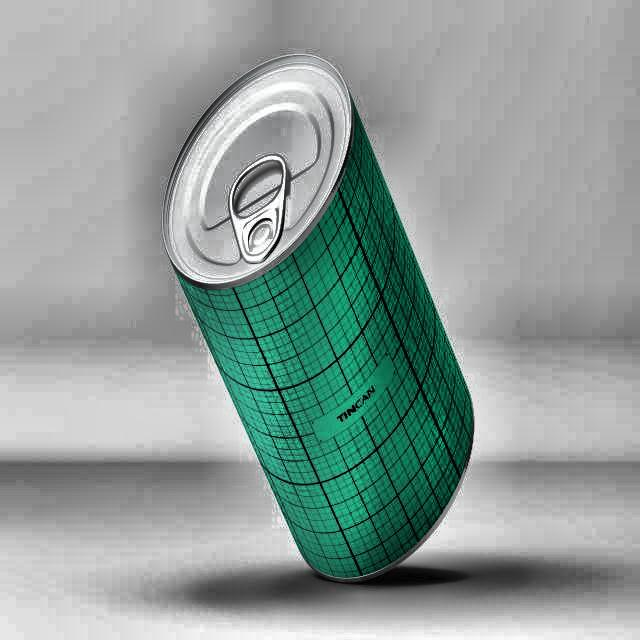can: (162, 44, 497, 598)
